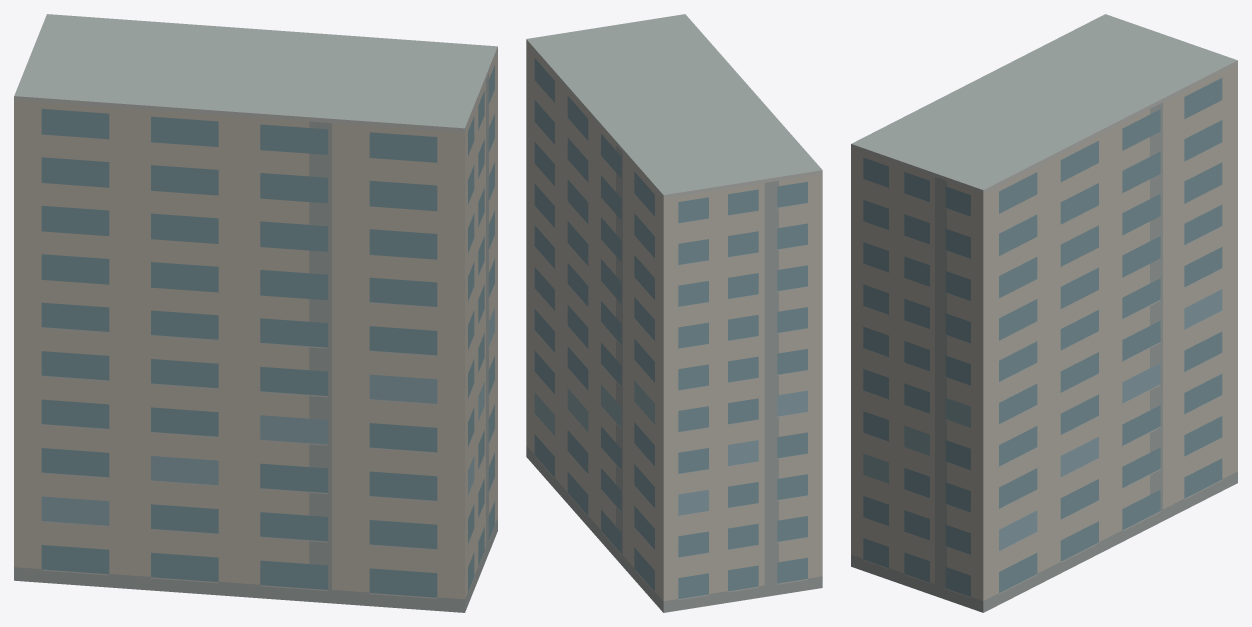
Rendered from residential-3d4ba725-bfb8-4877-b6a7-a19e4da7c3be.glb.
3 views of the same model, side by side, from view 1: azimuth 30°, elevation 25°; view 2: azimuth 150°, elevation 25°; view 3: azimuth 270°, elevation 25° (orthographic). The views are drawn at different scales.
Parts seen in each view (by area): view 1: residential-3d4ba725-bfb8-4877-b6a7-a19e4da7c3be.tmp; view 2: residential-3d4ba725-bfb8-4877-b6a7-a19e4da7c3be.tmp; view 3: residential-3d4ba725-bfb8-4877-b6a7-a19e4da7c3be.tmp.
Boxes of the visible parts, left/top/right/bottom form: residential-3d4ba725-bfb8-4877-b6a7-a19e4da7c3be.tmp: left=14, top=14, right=497, bottom=612; residential-3d4ba725-bfb8-4877-b6a7-a19e4da7c3be.tmp: left=526, top=14, right=822, bottom=612; residential-3d4ba725-bfb8-4877-b6a7-a19e4da7c3be.tmp: left=851, top=14, right=1237, bottom=612.
Size of the model in its own units: 25.03 by 28 by 23.22.
